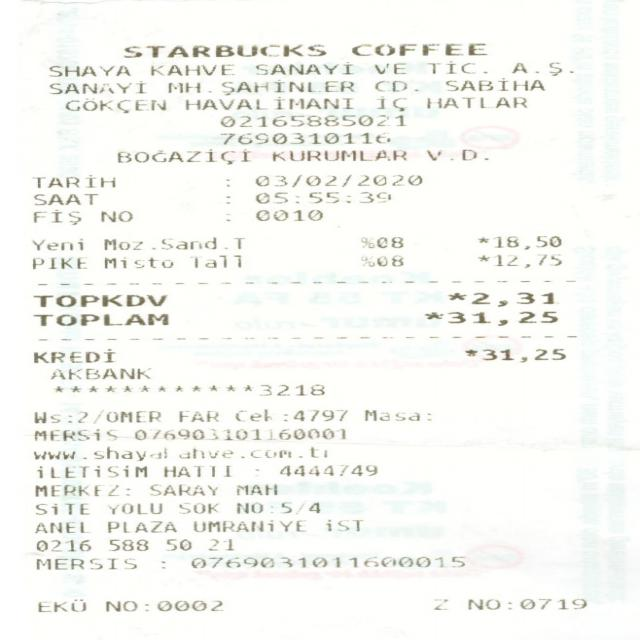text: (31, 445, 329, 460), (190, 554, 462, 568), (121, 44, 323, 57), (110, 148, 268, 164), (134, 428, 342, 440), (183, 96, 353, 110), (220, 78, 353, 95), (218, 114, 404, 126), (254, 174, 423, 187), (220, 132, 388, 144), (52, 384, 252, 394), (423, 311, 555, 326), (350, 42, 484, 56), (32, 312, 165, 326), (102, 236, 243, 249), (251, 191, 390, 204), (32, 409, 158, 423), (448, 291, 552, 307), (63, 97, 164, 113), (270, 149, 404, 161), (31, 294, 164, 306), (103, 600, 224, 612), (465, 598, 585, 610), (462, 348, 563, 362), (48, 80, 145, 94), (192, 519, 304, 531), (34, 465, 144, 477), (443, 77, 542, 90), (33, 483, 127, 496), (425, 96, 526, 108), (34, 558, 134, 570), (476, 236, 561, 250), (254, 62, 352, 74), (32, 174, 114, 188), (31, 348, 113, 362), (279, 464, 376, 475), (478, 254, 559, 267), (31, 429, 116, 441), (235, 502, 318, 514), (49, 368, 148, 378), (256, 383, 323, 397), (149, 64, 231, 75), (252, 209, 320, 222), (31, 208, 82, 225), (510, 62, 571, 76), (101, 256, 171, 268), (106, 520, 175, 532), (148, 484, 215, 496), (48, 66, 128, 76), (32, 193, 96, 205), (281, 409, 344, 421), (35, 598, 87, 612), (364, 409, 428, 420), (426, 149, 486, 160), (162, 466, 228, 476), (105, 502, 160, 514), (33, 521, 88, 533), (34, 502, 88, 514), (35, 539, 89, 551), (427, 61, 485, 72), (31, 238, 82, 250), (30, 257, 84, 268), (190, 255, 239, 267), (358, 236, 404, 248), (233, 483, 276, 495), (374, 80, 416, 92), (177, 410, 216, 422), (234, 408, 270, 421), (324, 518, 362, 530), (360, 255, 401, 266), (166, 82, 209, 92), (107, 539, 146, 550), (98, 210, 133, 222), (178, 502, 216, 513), (376, 96, 404, 110), (374, 62, 404, 73), (205, 538, 232, 550), (165, 538, 190, 550), (430, 598, 448, 610), (220, 177, 231, 188), (222, 195, 232, 204), (224, 212, 232, 221), (160, 560, 166, 569)
